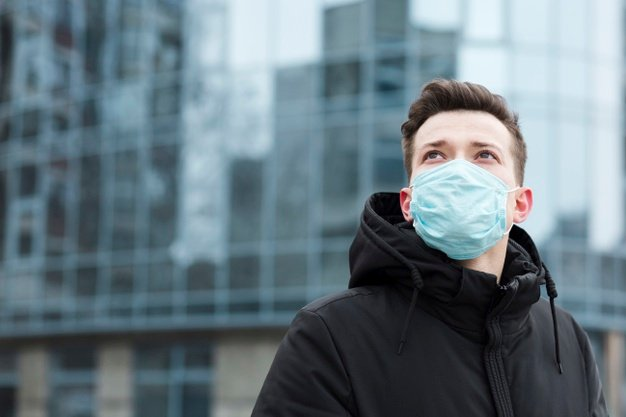mask: (379, 64, 543, 265)
